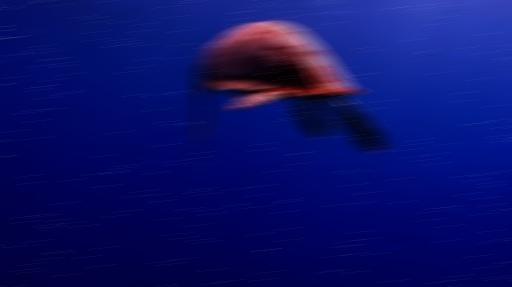Fish: (194, 21, 385, 151)
